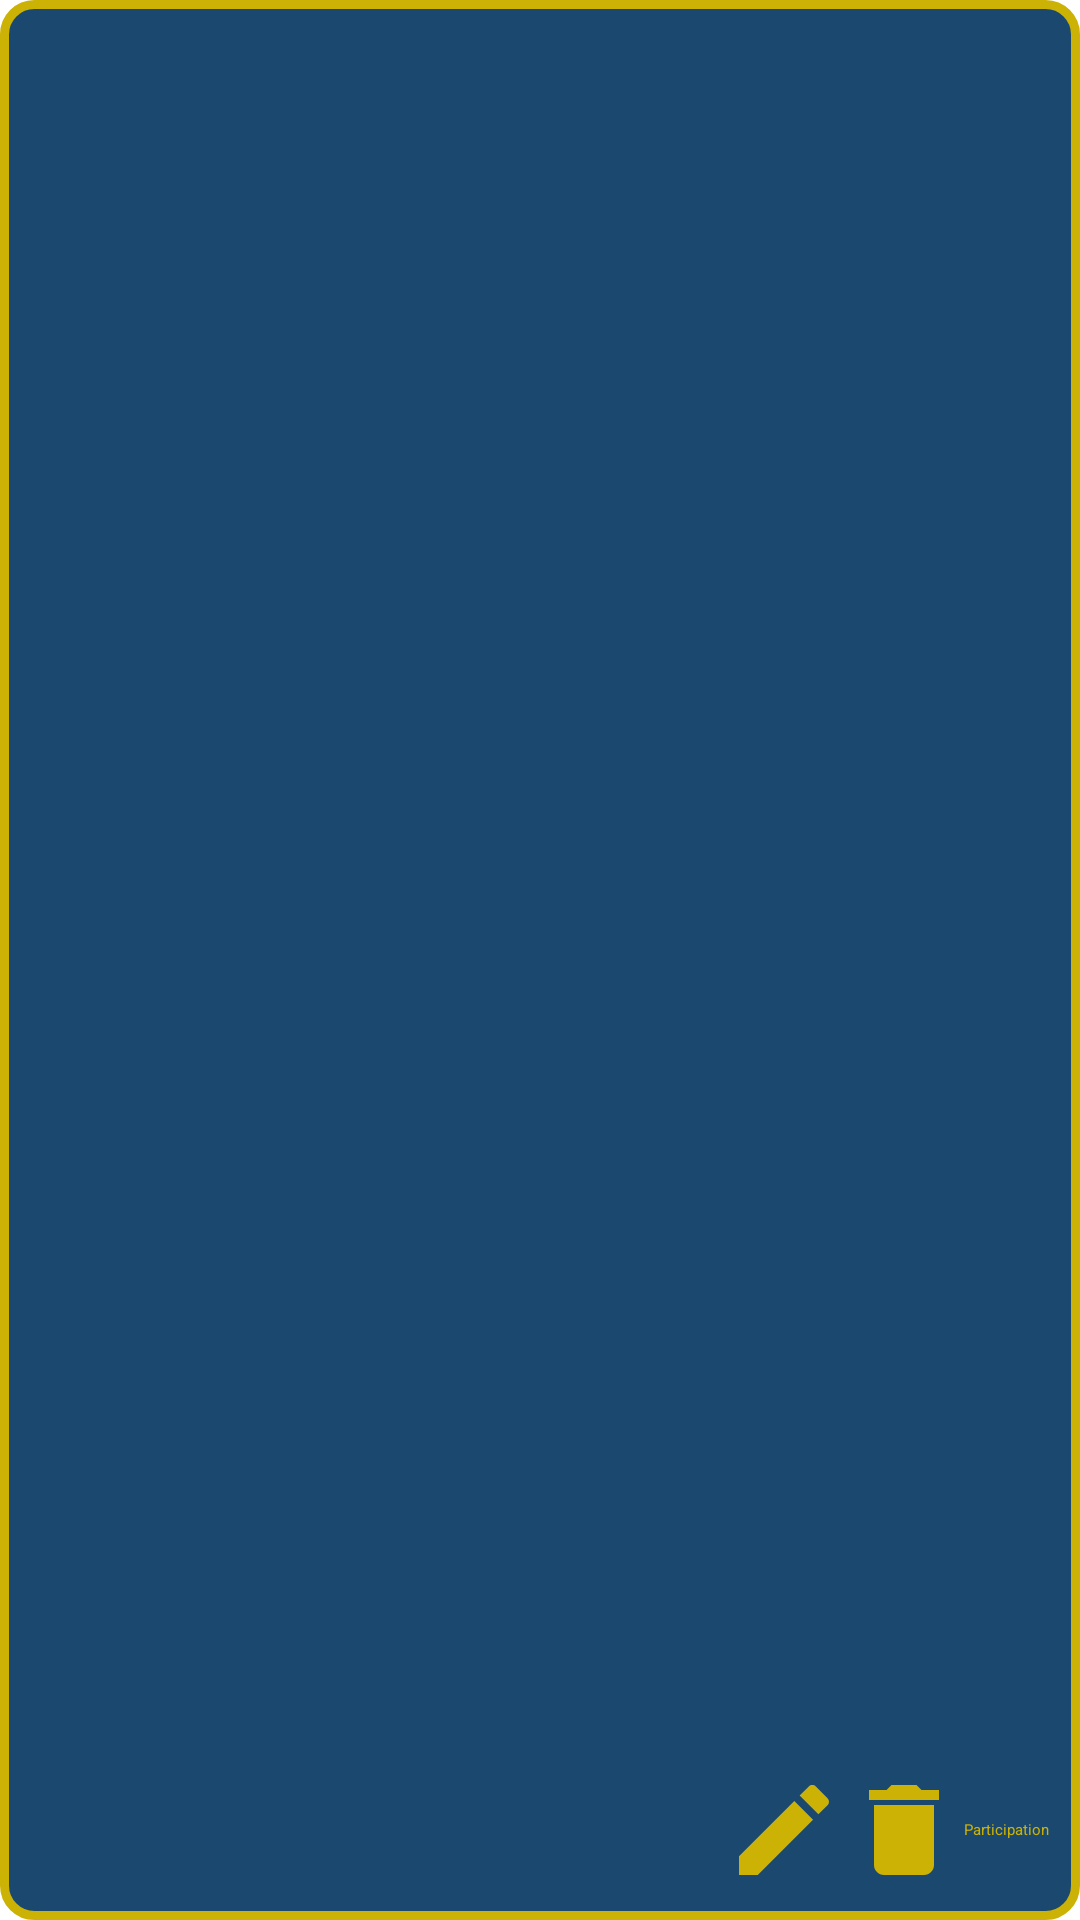

Where icons sit on this 1080px x 1920px app screen, as (x1, y1, x2, y2):
edit: (739, 1785, 829, 1875)
